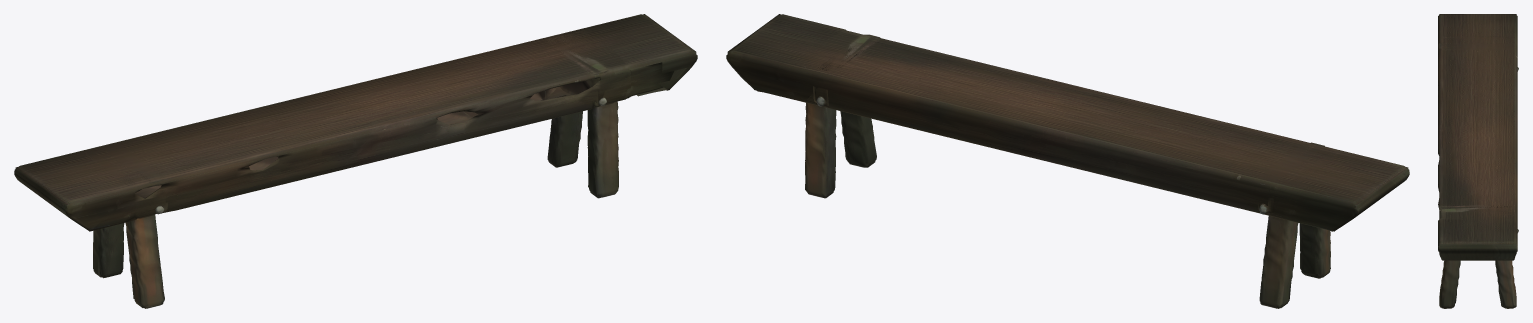
File: Wood_Bench_VINEYARD__0403043333_texture.glb
The picture shows the model from 3 angles, left to right: view 1: azimuth 30°, elevation 25°; view 2: azimuth 150°, elevation 25°; view 3: azimuth 270°, elevation 25°; orthographic projection. The views are drawn at different scales.
Visible parts, largest first — view 1: Mesh_0.004; view 2: Mesh_0.004; view 3: Mesh_0.004.
Part boxes in pixels (bbox=[...]): Mesh_0.004: bbox=[14, 14, 697, 308]; Mesh_0.004: bbox=[726, 14, 1409, 308]; Mesh_0.004: bbox=[1438, 14, 1518, 308].
Bounding box in the file's own units: 2.39 × 0.4572 × 0.354.
1 material, 1 textured.
